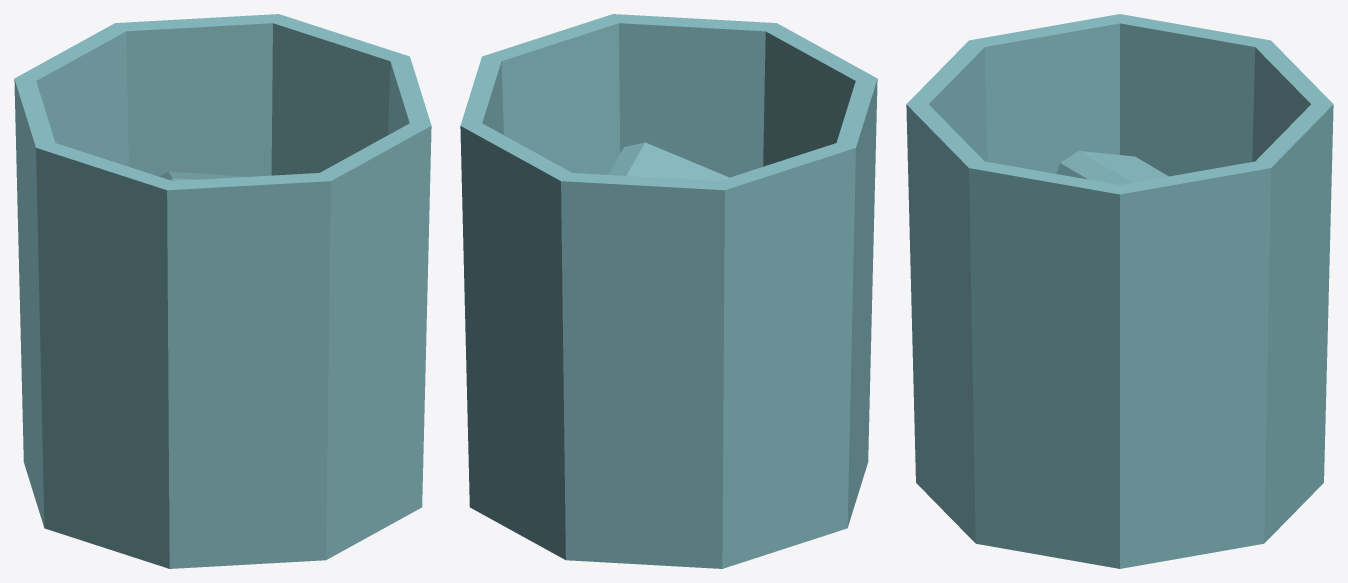
Rendered from SM_Prop_Alcohol_Glass_Filled_01.obj.
3 renders of one model, left to right at view 1: azimuth 30°, elevation 25°; view 2: azimuth 150°, elevation 25°; view 3: azimuth 270°, elevation 25°, orthographic.
Visible parts, largest first — view 1: SM_Prop_Alcohol_Glass_Filled_01_0; view 2: SM_Prop_Alcohol_Glass_Filled_01_0; view 3: SM_Prop_Alcohol_Glass_Filled_01_0.
Part boxes in pixels (x1,y1,x2,y2): SM_Prop_Alcohol_Glass_Filled_01_0: (14,14,431,568); SM_Prop_Alcohol_Glass_Filled_01_0: (460,14,877,568); SM_Prop_Alcohol_Glass_Filled_01_0: (906,14,1333,568).
Size of the model in its own units: 0.1322 by 0.1292 by 0.1322.
